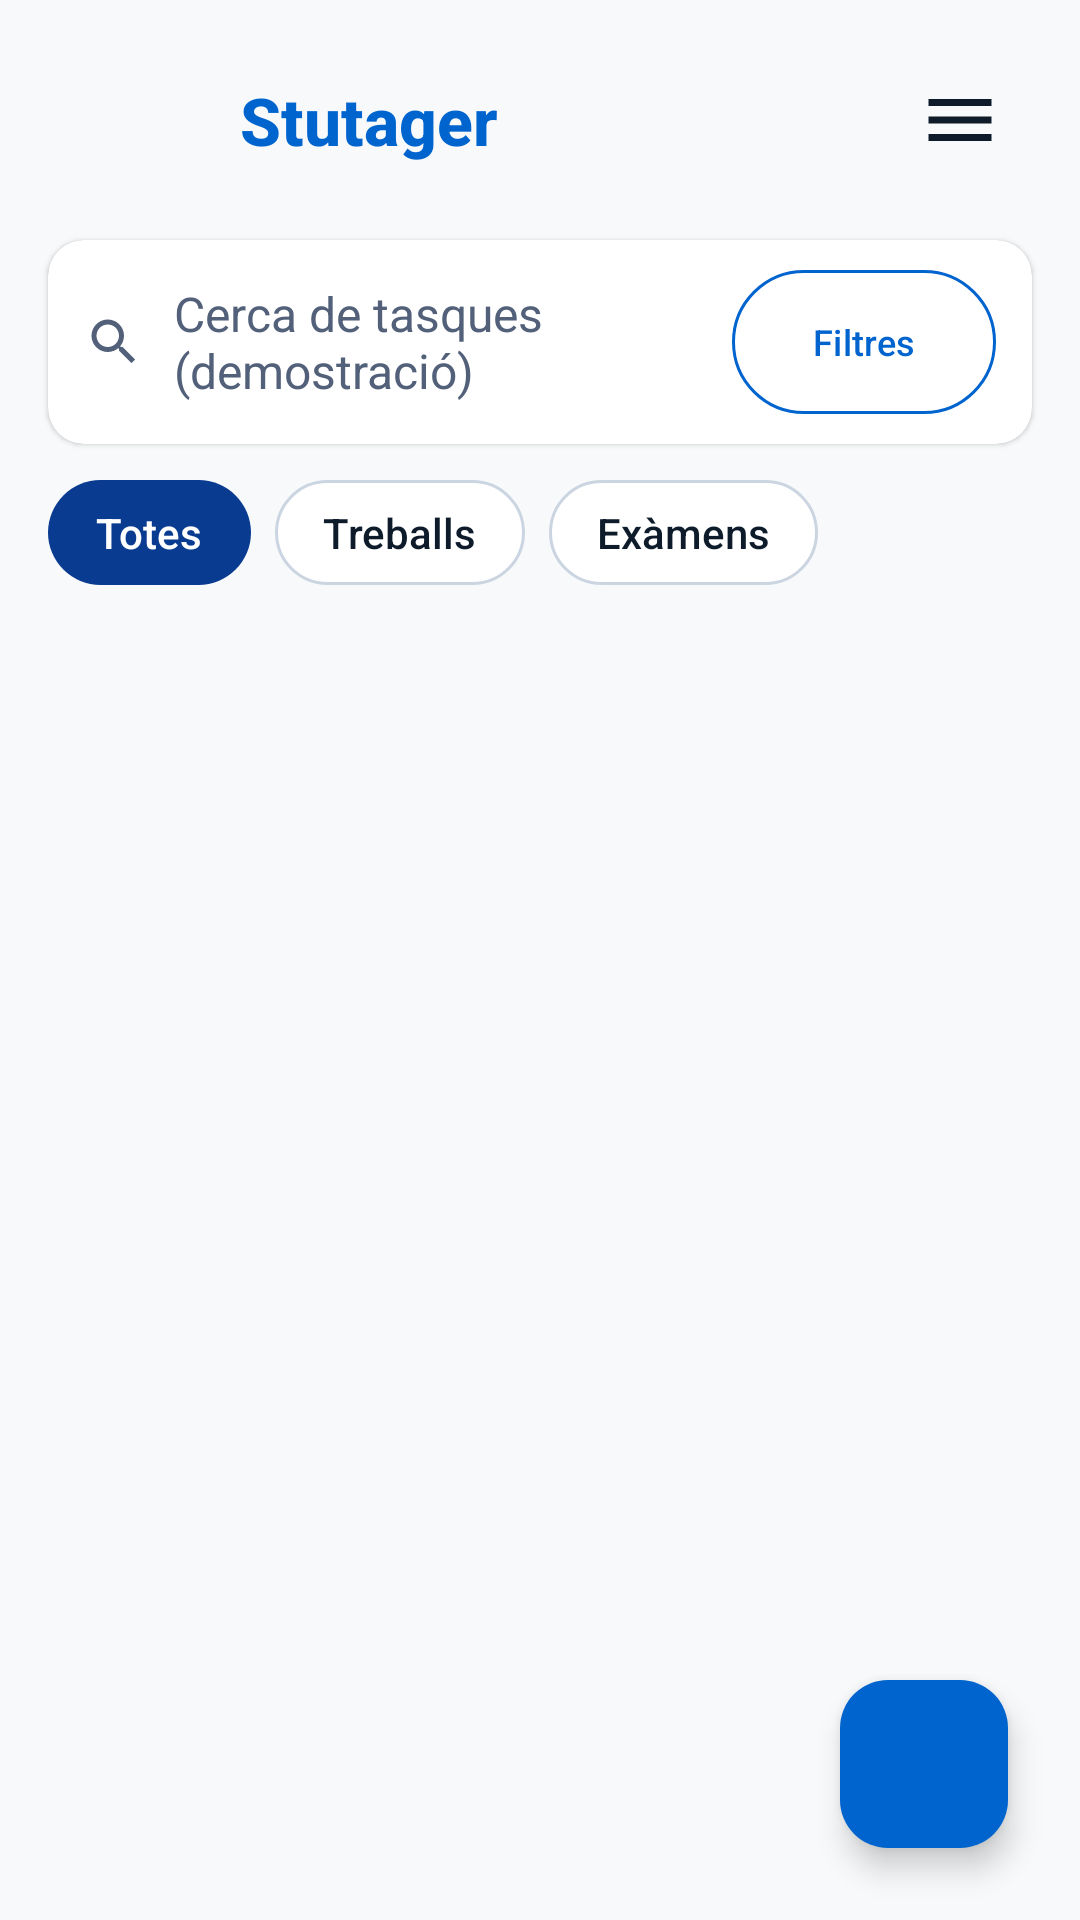

Point at icon controls on the screen. Image size 1080 x 1920, points as [x,y].
Menú: [960,120]
search: [113,341]
